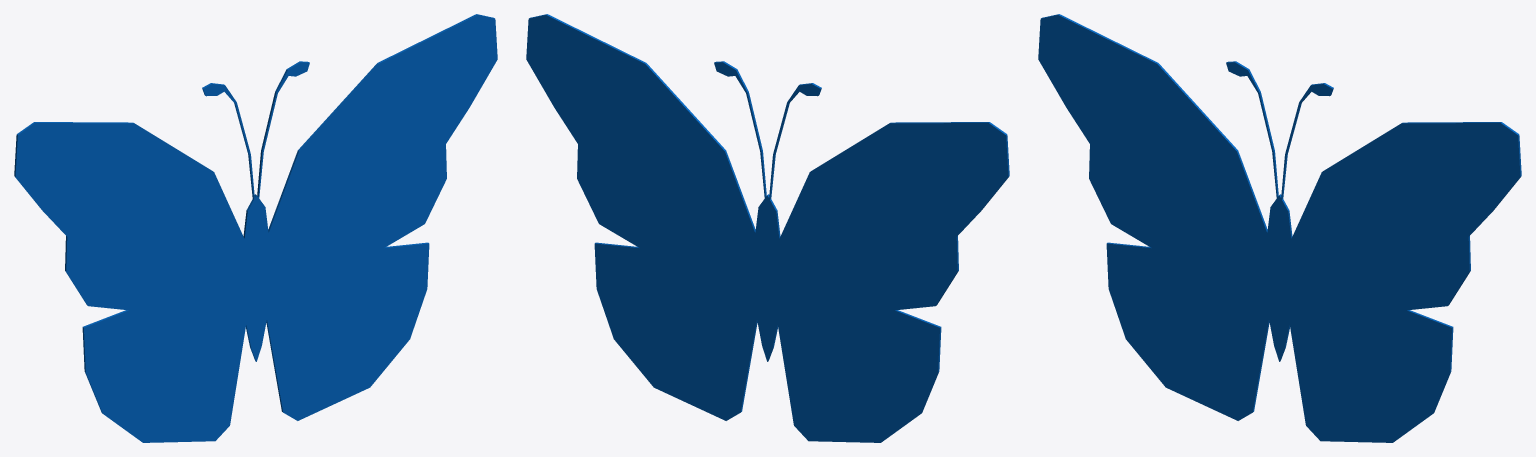
Rendered from prop_051.glb.
3 renders of one model, left to right at view 1: azimuth 30°, elevation 25°; view 2: azimuth 150°, elevation 25°; view 3: azimuth 330°, elevation 25°, orthographic.
Visible parts, largest first — view 1: prop_051; view 2: prop_051; view 3: prop_051.
Part boxes in pixels (x1=…): prop_051: x1=14, y1=14, x2=497, y2=442; prop_051: x1=526, y1=14, x2=1009, y2=442; prop_051: x1=1038, y1=14, x2=1521, y2=442.
Bounding box in the file's own units: 0.4216 × 0.3026 × 0.00199.
1 material, 1 textured.
